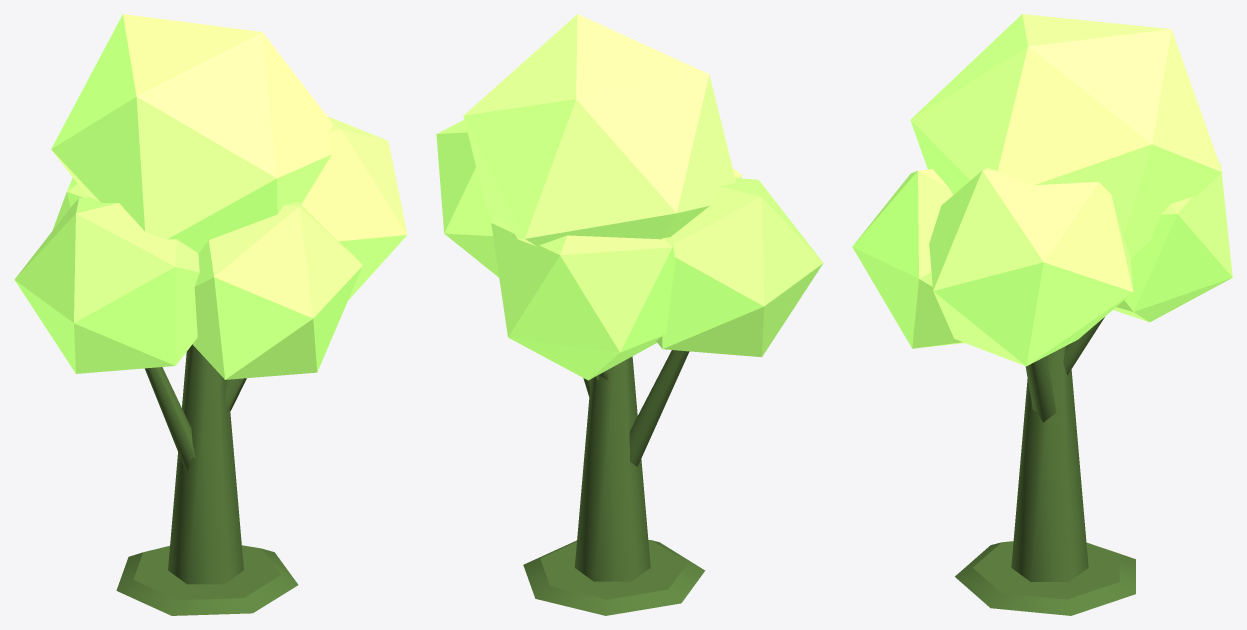
File: Tree_Neon_Lime.glb
3 views of the same model, side by side, from view 1: azimuth 30°, elevation 25°; view 2: azimuth 150°, elevation 25°; view 3: azimuth 270°, elevation 25° (orthographic).
Parts seen in each view (by area): view 1: Tree_Neon_Lime; view 2: Tree_Neon_Lime; view 3: Tree_Neon_Lime.
Boxes of the visible parts, x1=… form: Tree_Neon_Lime: x1=14, y1=14, x2=407, y2=615; Tree_Neon_Lime: x1=436, y1=14, x2=823, y2=615; Tree_Neon_Lime: x1=852, y1=14, x2=1232, y2=615.
Bounding box in the file's own units: 2.48 × 3.68 × 2.29.
